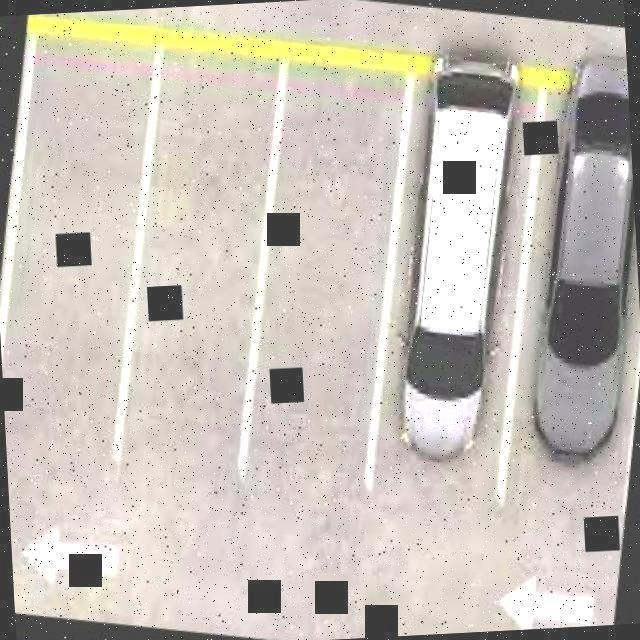space-empty: (221, 56, 430, 499), (99, 43, 301, 479), (0, 25, 173, 471)
space-occupied: (364, 23, 551, 472), (501, 45, 640, 478)
